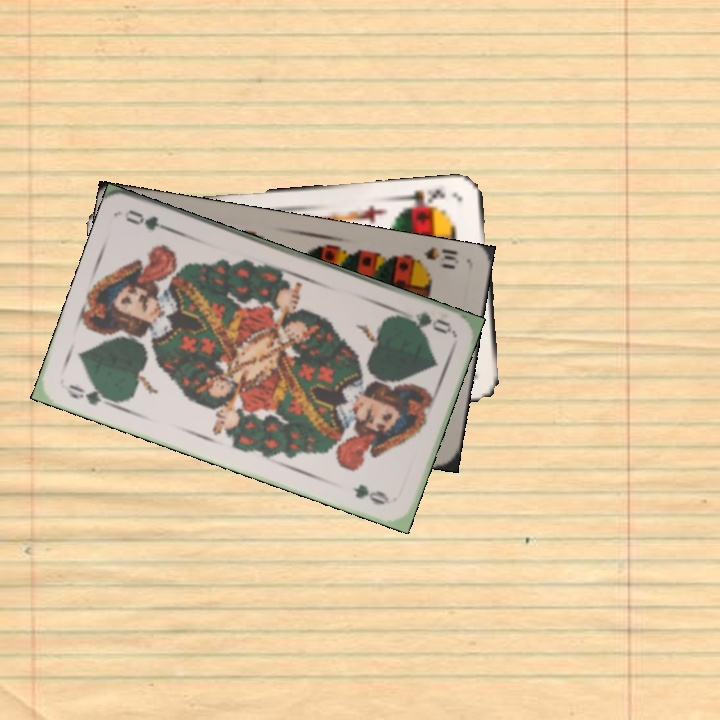GO: (395, 307, 453, 337), (61, 380, 119, 410)
S10: (406, 243, 462, 272)
SK: (400, 184, 448, 212)
